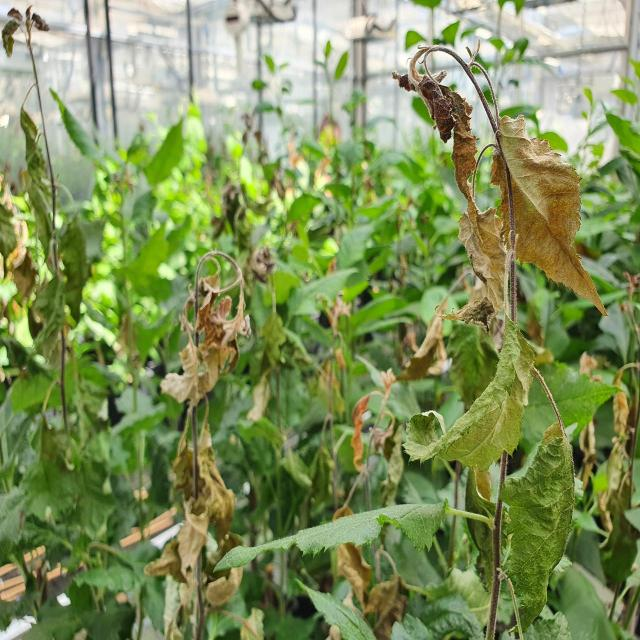-FireBlight-: (387, 43, 611, 476), (146, 247, 259, 609), (329, 506, 414, 639), (592, 368, 632, 537), (352, 365, 398, 475)
